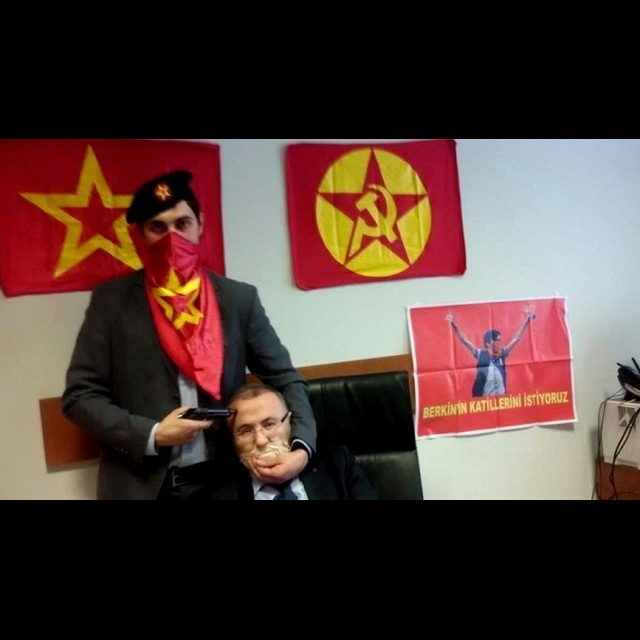DHKPC: (309, 146, 441, 273), (151, 178, 175, 203)
